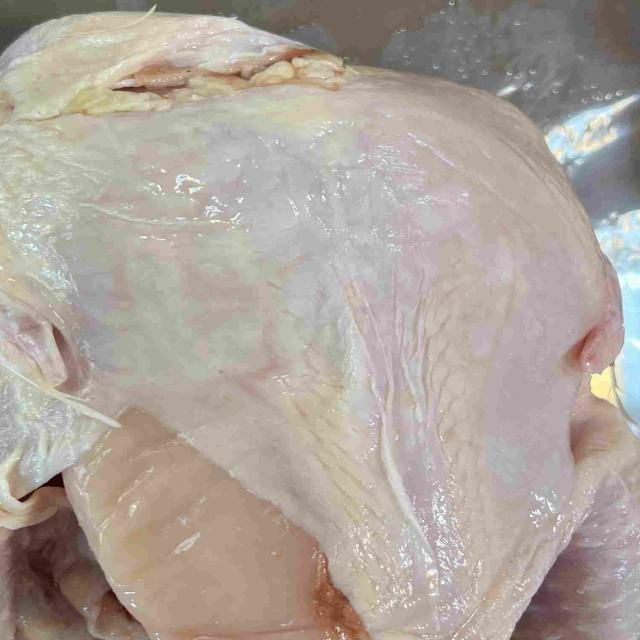breast: (0, 74, 614, 640)
leg: (502, 414, 640, 640)
